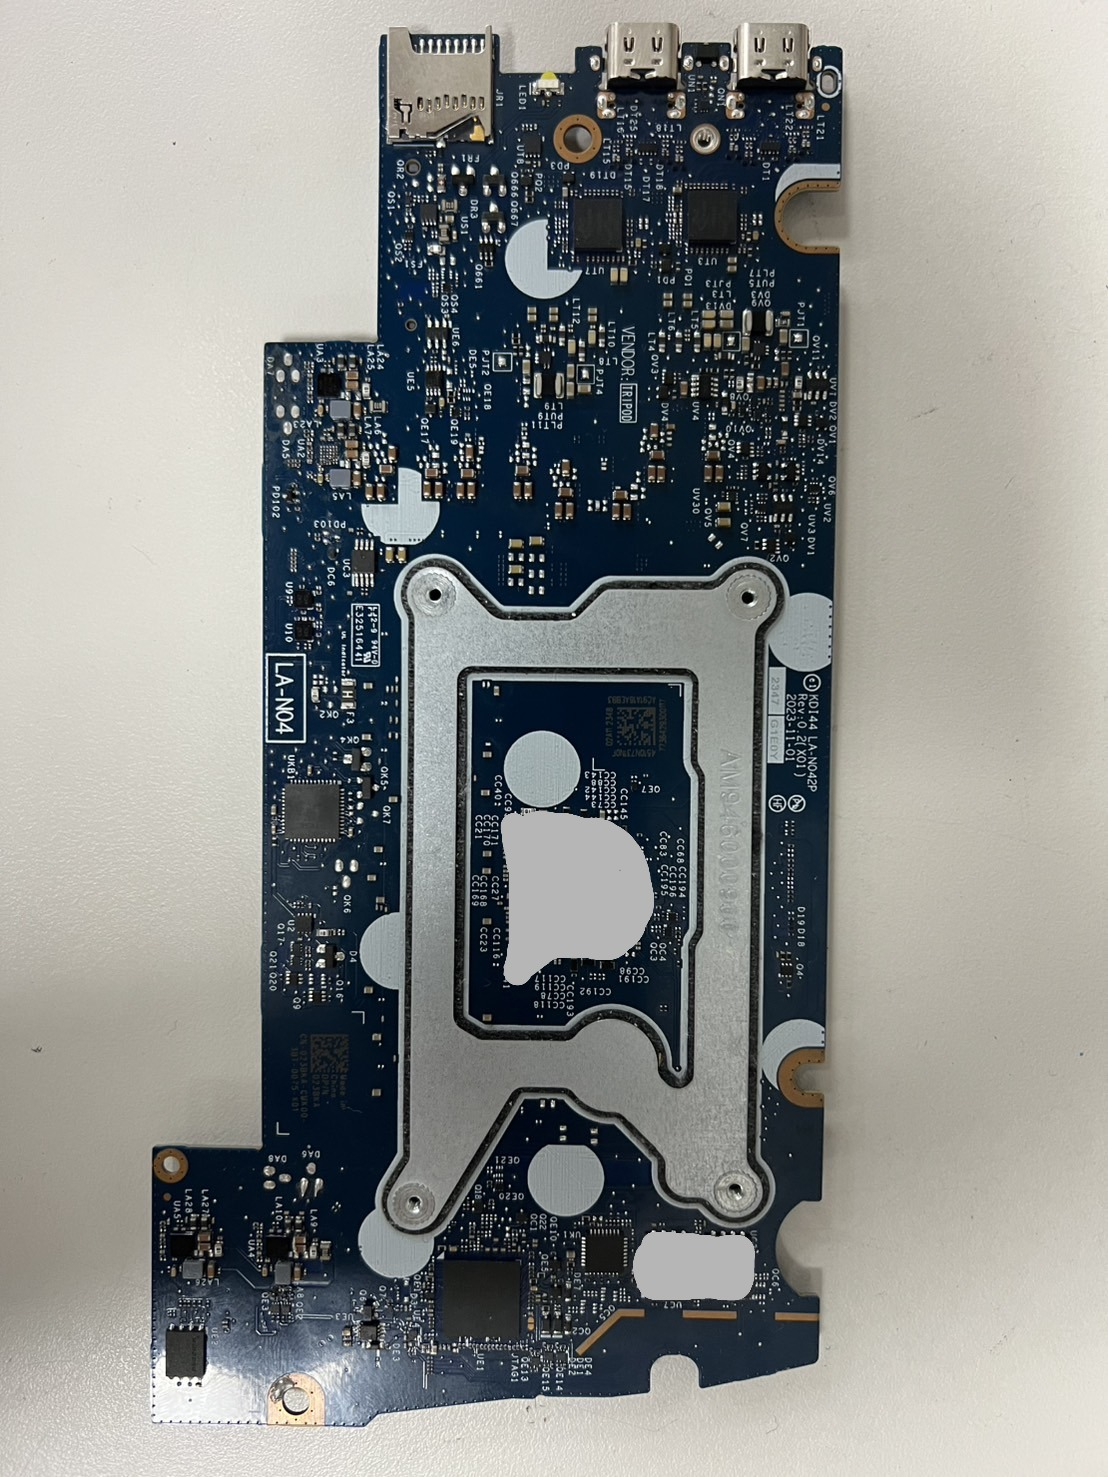error-missing: (499, 798, 661, 982), (627, 1223, 761, 1304), (319, 442, 340, 466)
